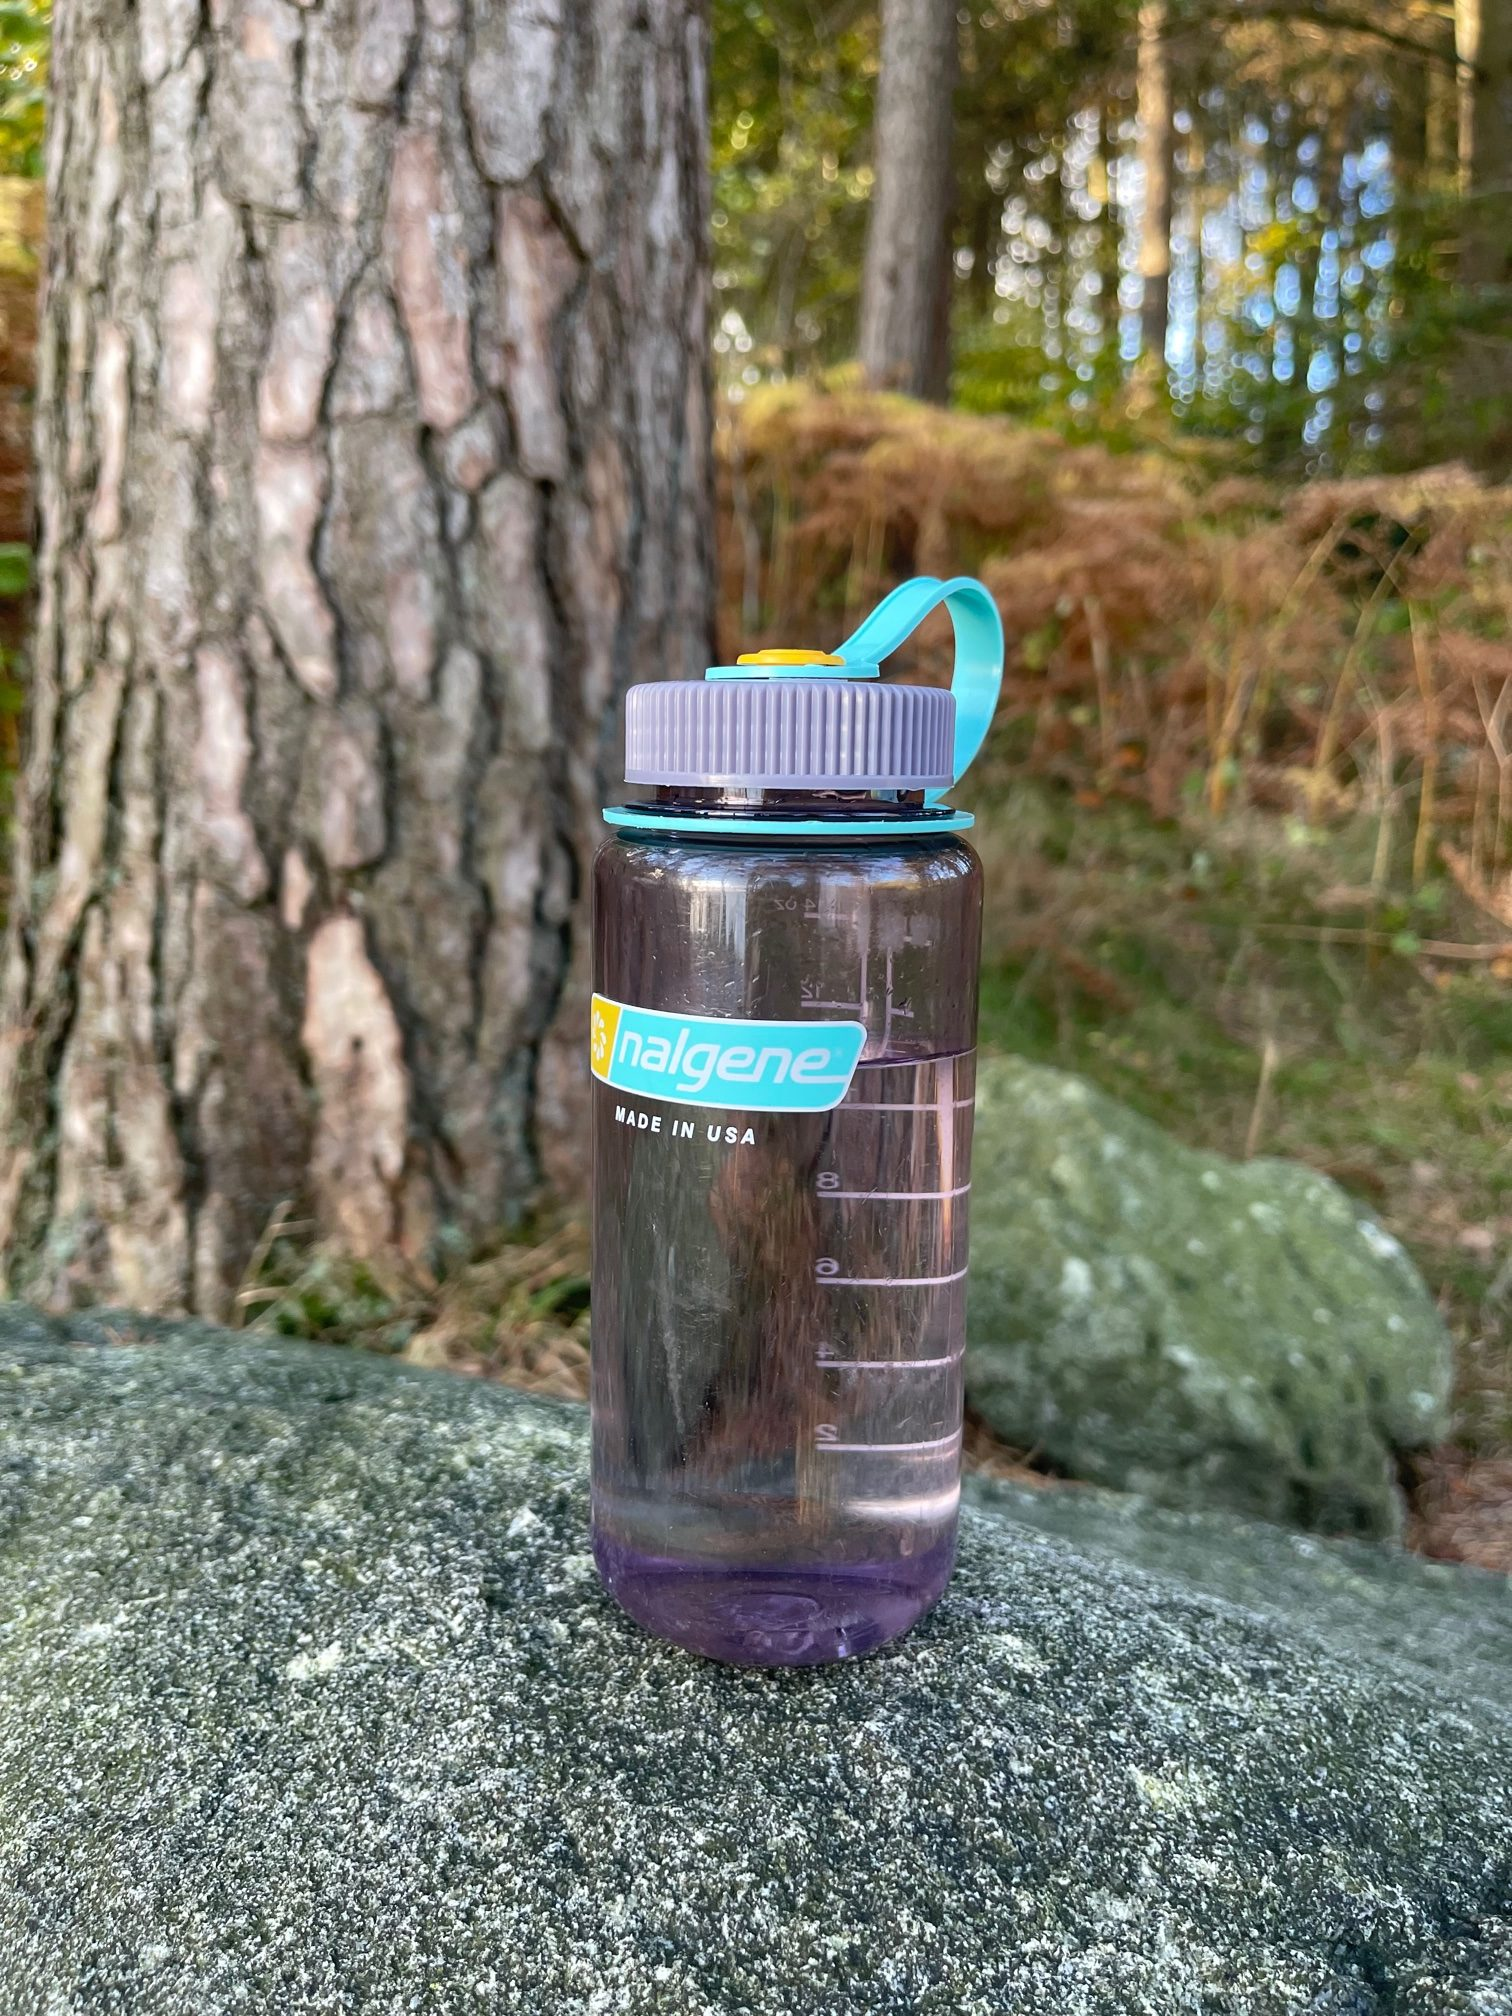waterbottle: (581, 568, 1012, 1672)
